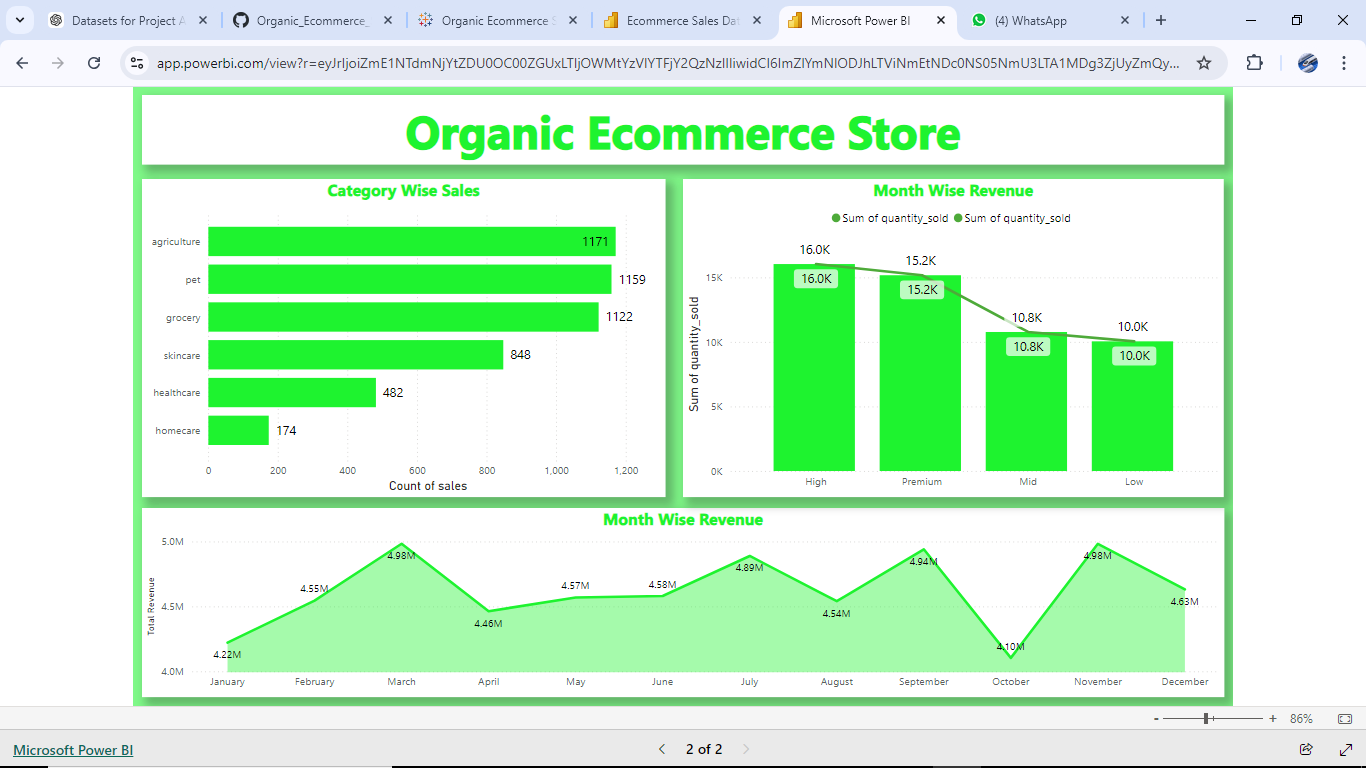

What the dashboard file says about the page in this screenshot:
{"tool":"powerbi","page":{"name":"Page 2","canvas":[1280,720],"ordinal":1},"visuals":[{"type":"textbox","box":[10.5,9.2,1258.7,81.5],"z":0},{"type":"barChart","title":"Category Wise Sales","fields":{"Category":["sales_data.category"],"Y":["CountNonNull(sales_data.customer_id)"]},"box":[10,107.1,608.6,370],"z":8000},{"type":"areaChart","title":"Month Wise Revenue","fields":{"Category":["sales_data.date.Variation.Date Hierarchy.Month"],"Y":["Sum(sales_data.revenue)"]},"box":[10,490,1258.6,220],"z":8001},{"type":"lineStackedColumnComboChart","title":"Month Wise Revenue","fields":{"Category":["sales_data.price_band"],"Y":["Sum(sales_data.quantity_sold)"],"Y2":["Sum(sales_data.quantity_sold)"]},"box":[640,107.1,628.6,370],"z":8002}]}

Visuals, with their boxes on the page's 1280x720 design canvas (x1, y1, x2, y2). These are canvas units, not pixel positions in the 1366x768 screenshot, which may show the page scaled, cropped or inside an application window:
textbox: BBox(10, 9, 1269, 91)
"Category Wise Sales" barChart: BBox(10, 107, 619, 477)
"Month Wise Revenue" areaChart: BBox(10, 490, 1269, 710)
"Month Wise Revenue" lineStackedColumnComboChart: BBox(640, 107, 1269, 477)
